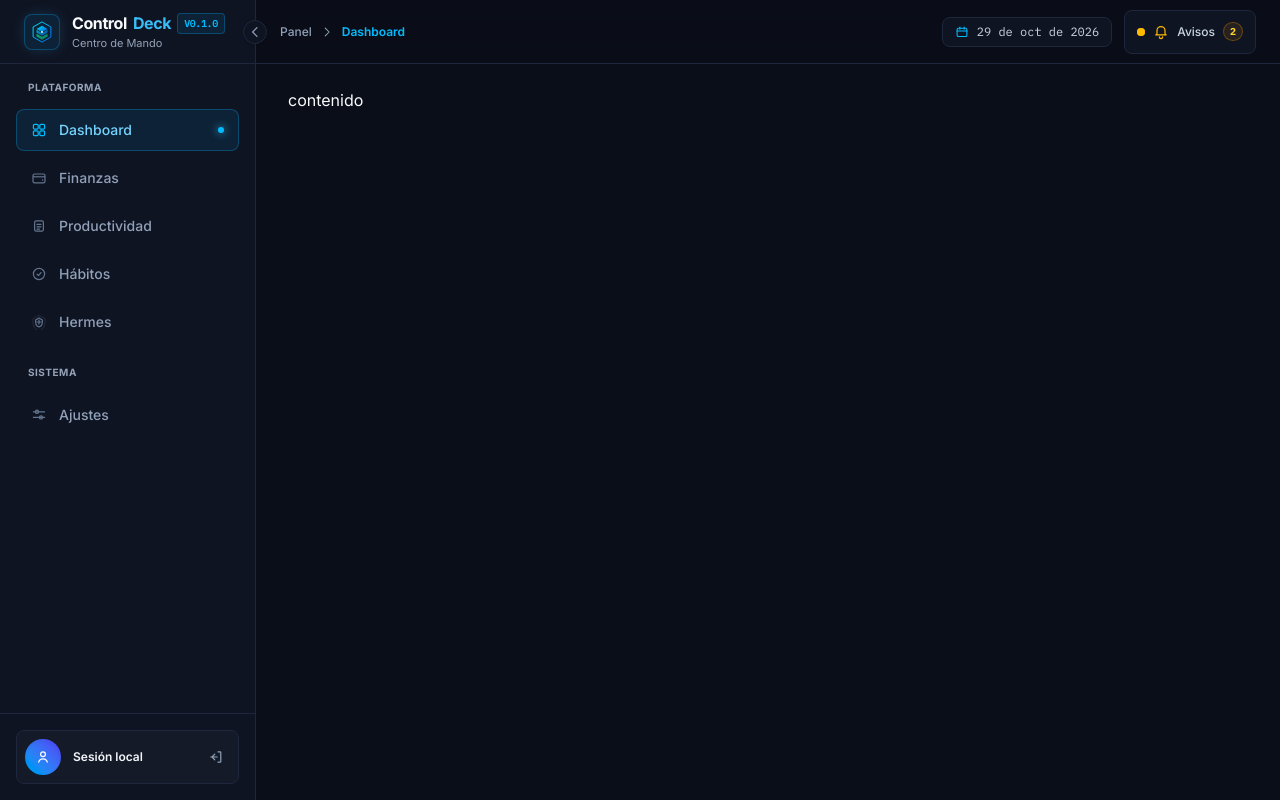
Test case: AppShell collapsible rail › expands back and persists the preference
Click the button named "Colapsar barra lateral".
click(255, 32)  # box top-left (233, 10), bottom-right (277, 54)
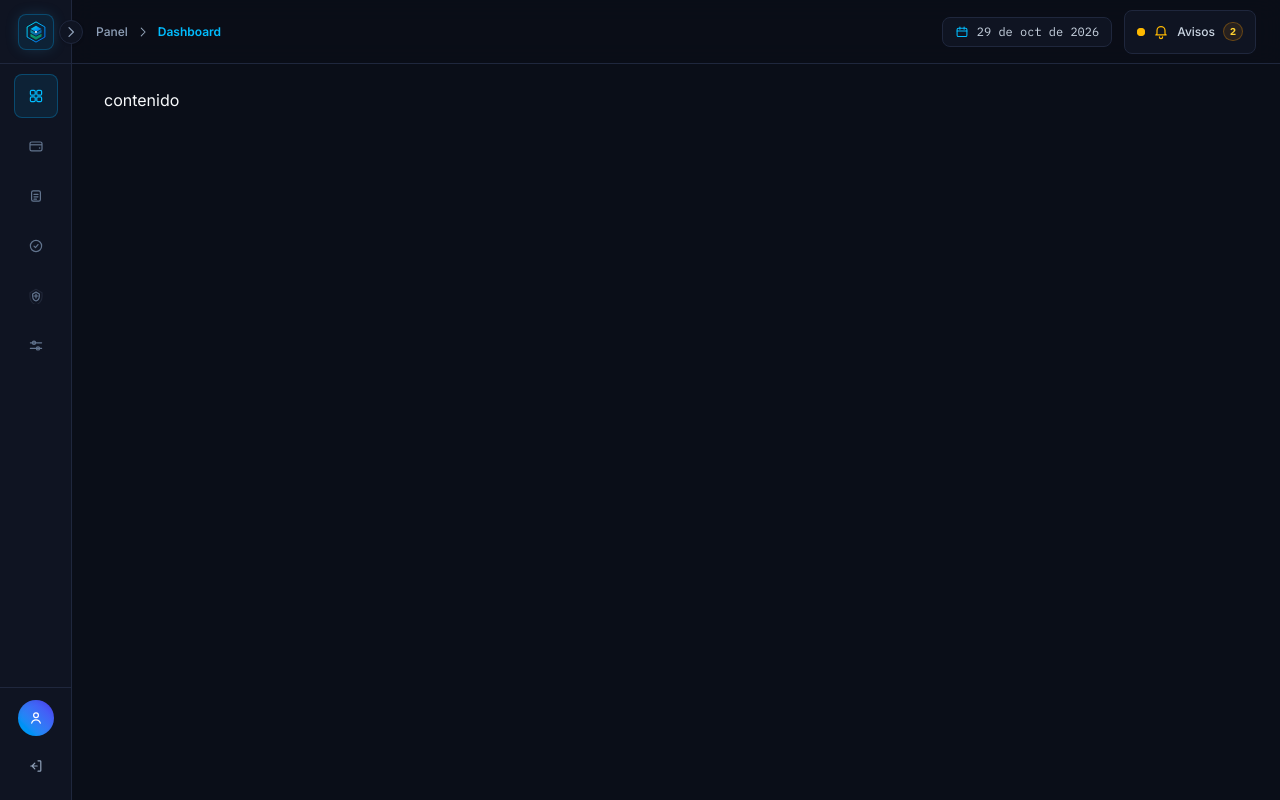
Click the button named "Expandir barra lateral".
click(71, 32)  # box top-left (49, 10), bottom-right (93, 54)
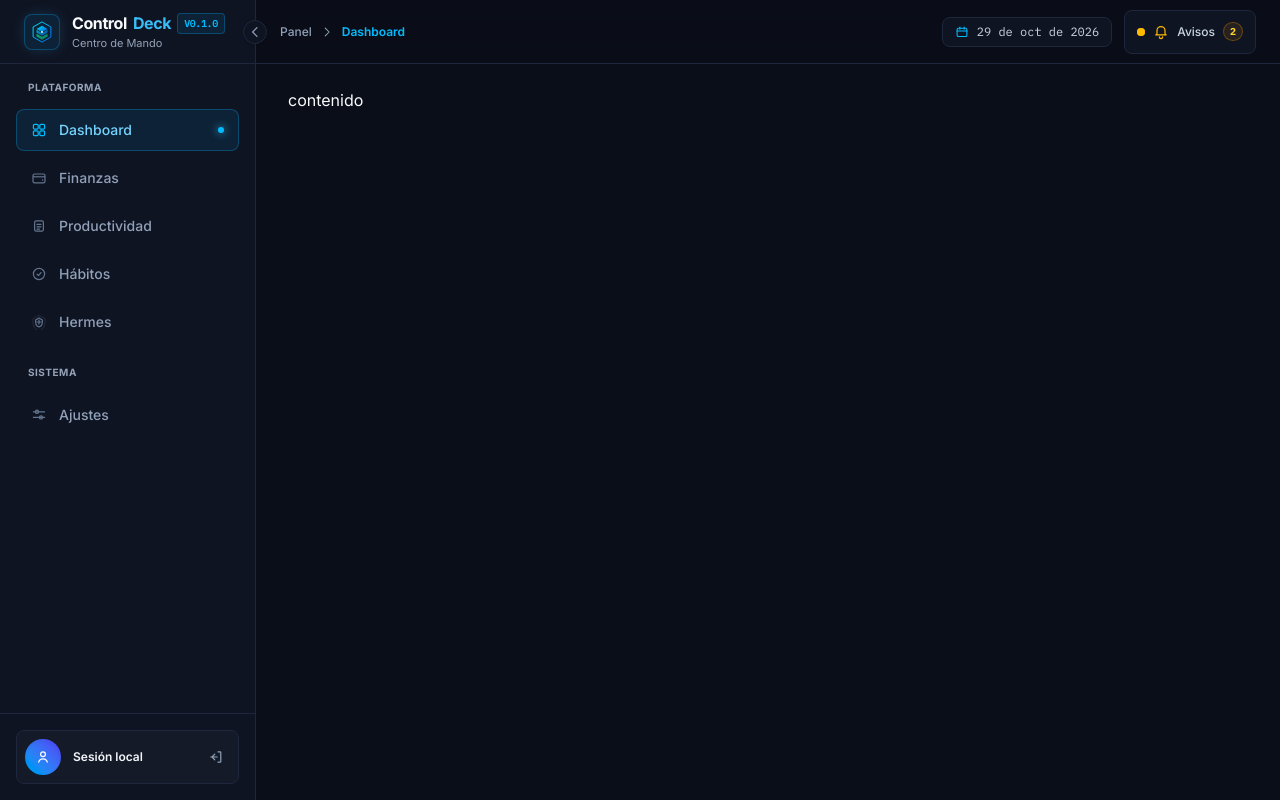
Expected: the text "Plataforma" is shown, top-left (28, 81), bottom-right (102, 93)
